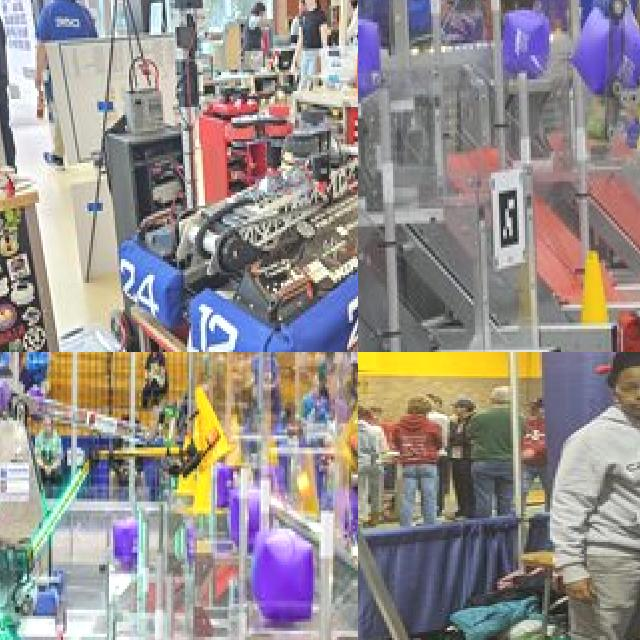FRC-Robots: (0, 376, 241, 640), (118, 93, 358, 352), (358, 427, 615, 640), (569, 0, 640, 352)
